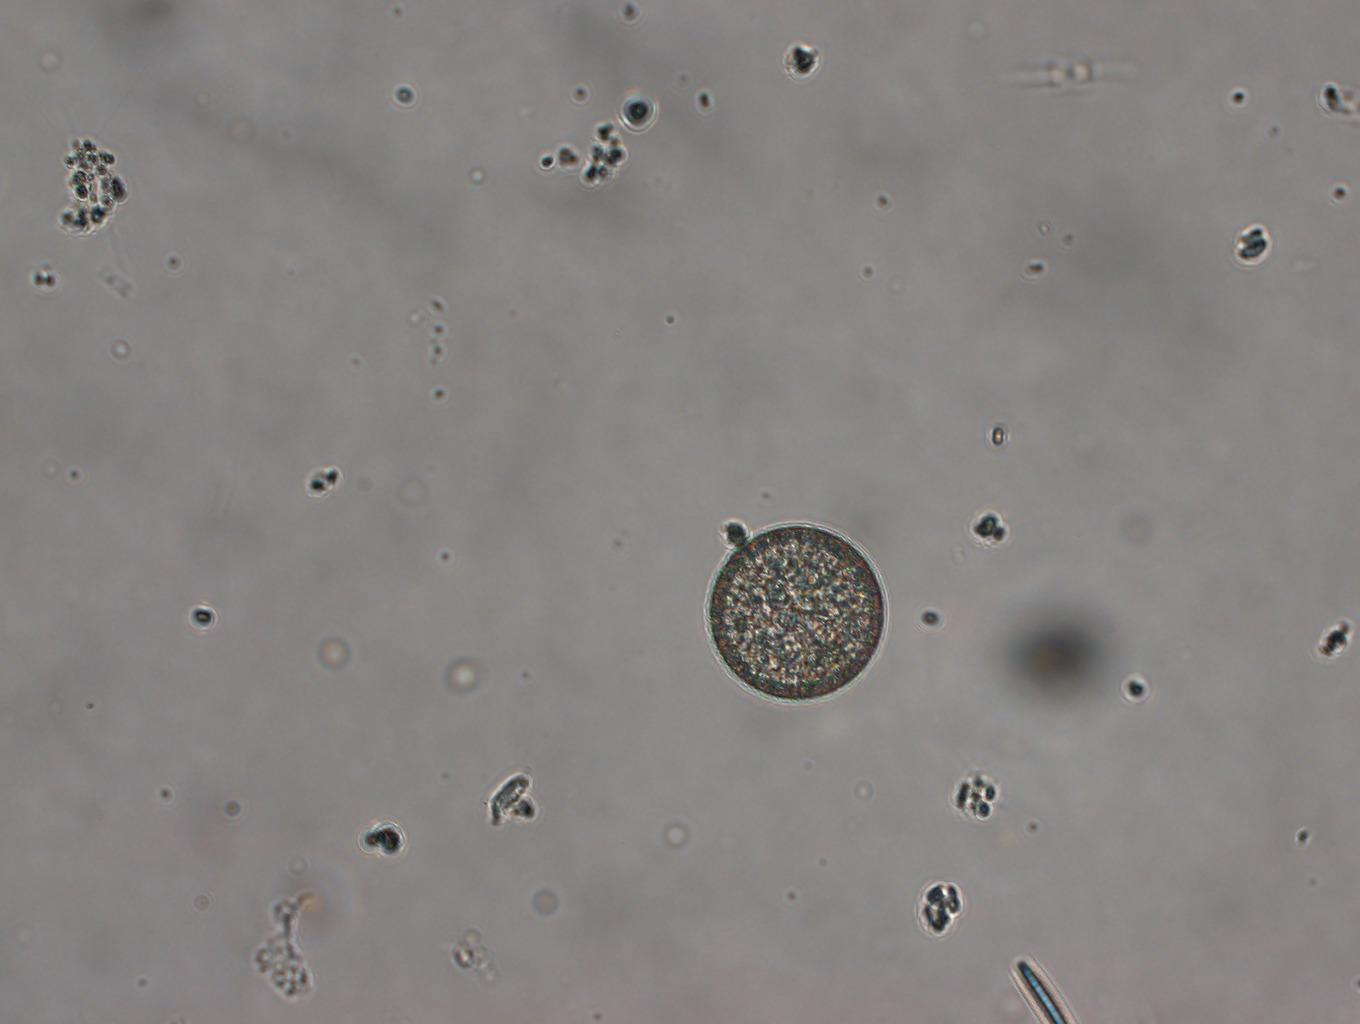coscinodiscus: (703, 518, 893, 705)
